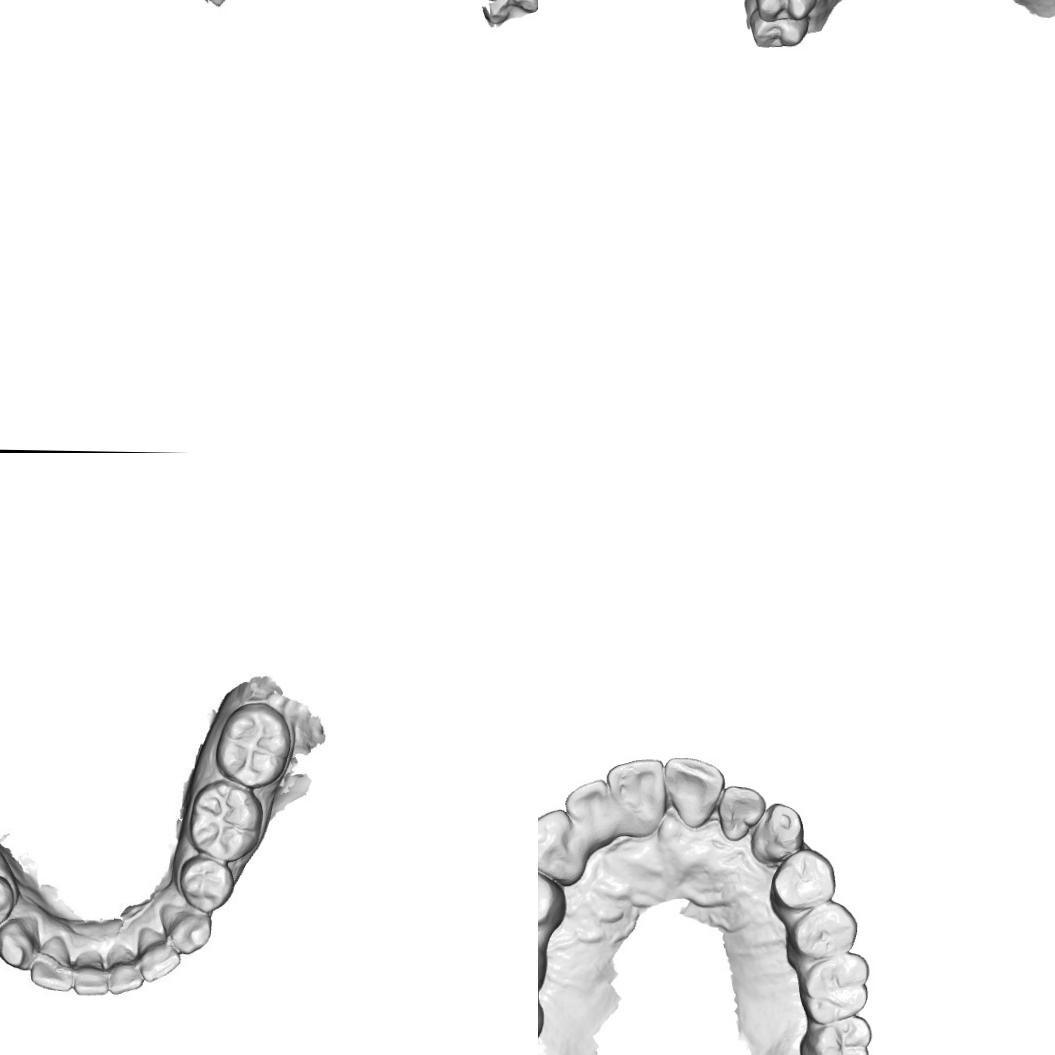canine: (538, 807, 587, 887), (748, 802, 806, 868), (158, 901, 214, 955), (0, 917, 34, 974)
incisor: (605, 756, 666, 837), (662, 756, 726, 830), (562, 778, 617, 848), (28, 938, 78, 997), (716, 785, 767, 842), (138, 930, 182, 984), (105, 940, 147, 993), (71, 952, 110, 1004)
molar: (212, 701, 296, 786), (798, 950, 870, 1026), (190, 782, 258, 861), (798, 1013, 872, 1055)
premolar: (768, 847, 836, 912), (786, 900, 858, 961), (182, 858, 234, 914), (746, 7, 811, 50), (538, 861, 567, 930), (750, 0, 823, 25), (0, 869, 15, 929)
